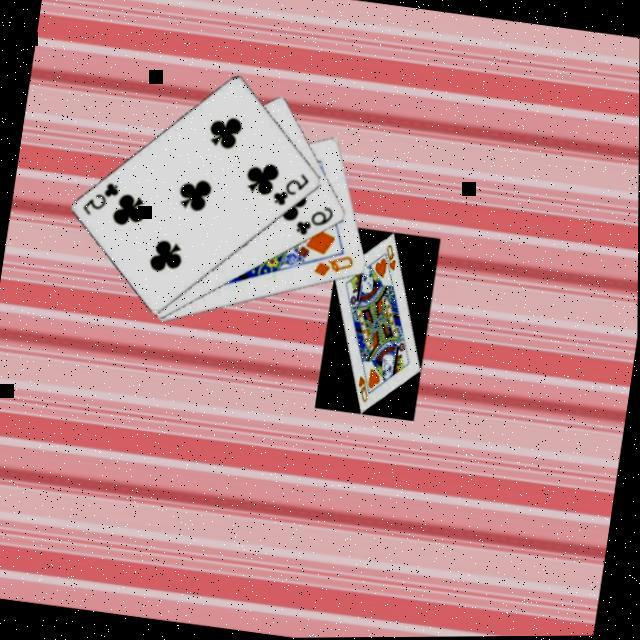5C: (270, 169, 316, 214), (80, 178, 126, 222)
6C: (294, 201, 340, 244)
QD: (312, 250, 359, 286)
